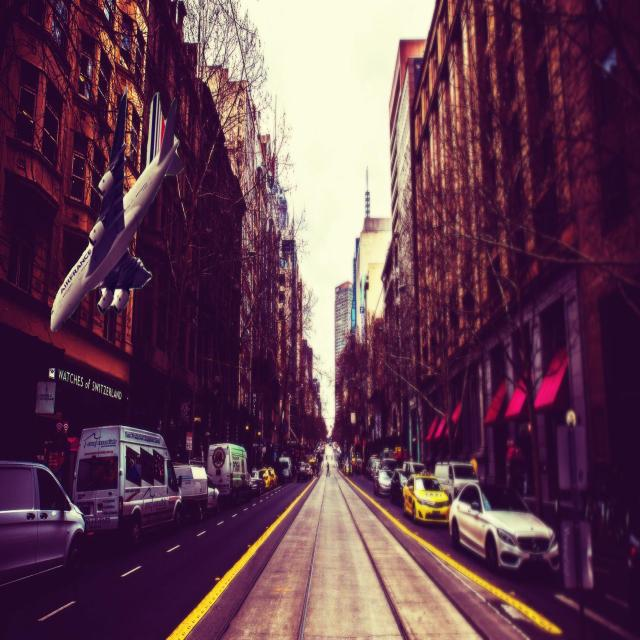airplane: (49, 85, 184, 333)
